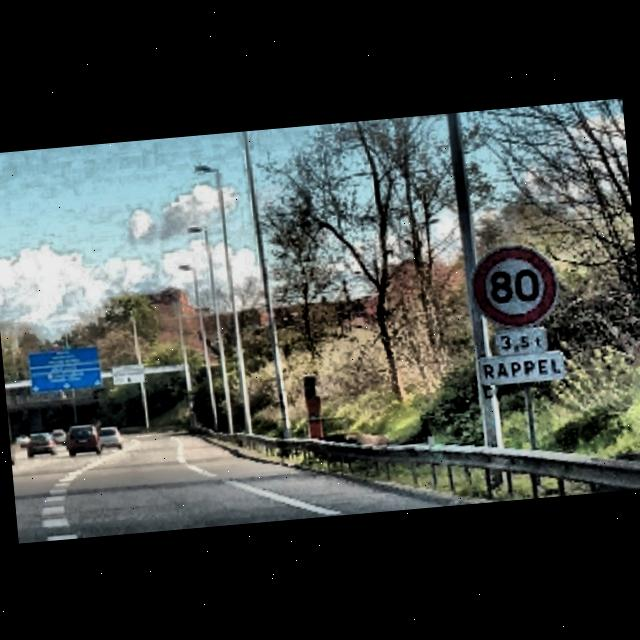speed_80: (466, 240, 560, 330)
